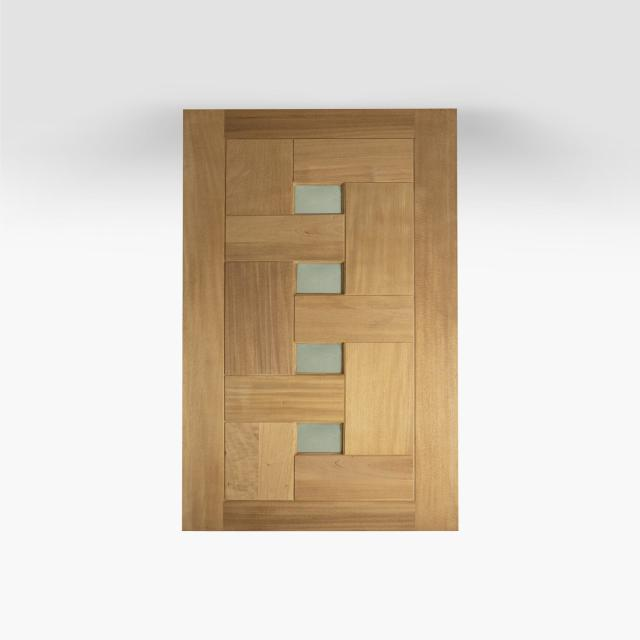door: (182, 108, 459, 532)
